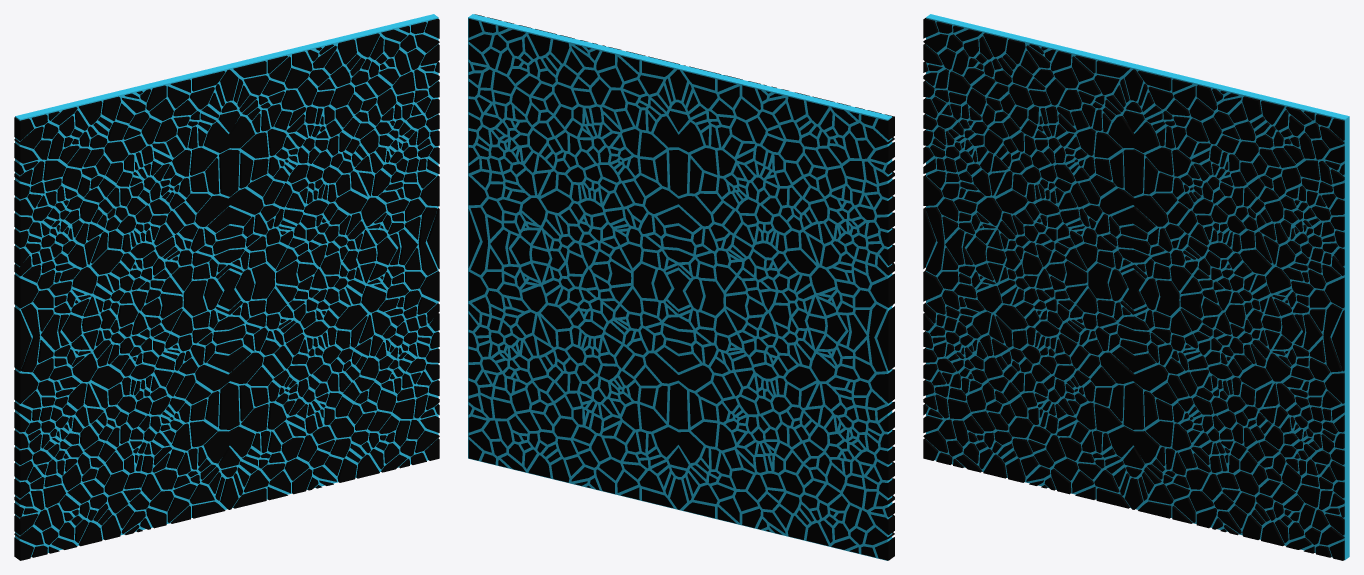
Rendered from floor.gltf.
3 renders of one model, left to right at view 1: azimuth 30°, elevation 25°; view 2: azimuth 150°, elevation 25°; view 3: azimuth 330°, elevation 25°, orthographic.
Parts seen in each view (by area): view 1: Object_1, Object_0; view 2: Object_1, Object_0; view 3: Object_1, Object_0.
Part boxes in pixels (left/top/right/bottom): Object_1: left=14, top=19, right=439, bottom=560; Object_0: left=15, top=14, right=438, bottom=557; Object_1: left=468, top=14, right=894, bottom=560; Object_0: left=468, top=14, right=892, bottom=560; Object_1: left=923, top=18, right=1344, bottom=560; Object_0: left=926, top=14, right=1349, bottom=560.
Size of the model in its own units: 621 by 623 by 16.
